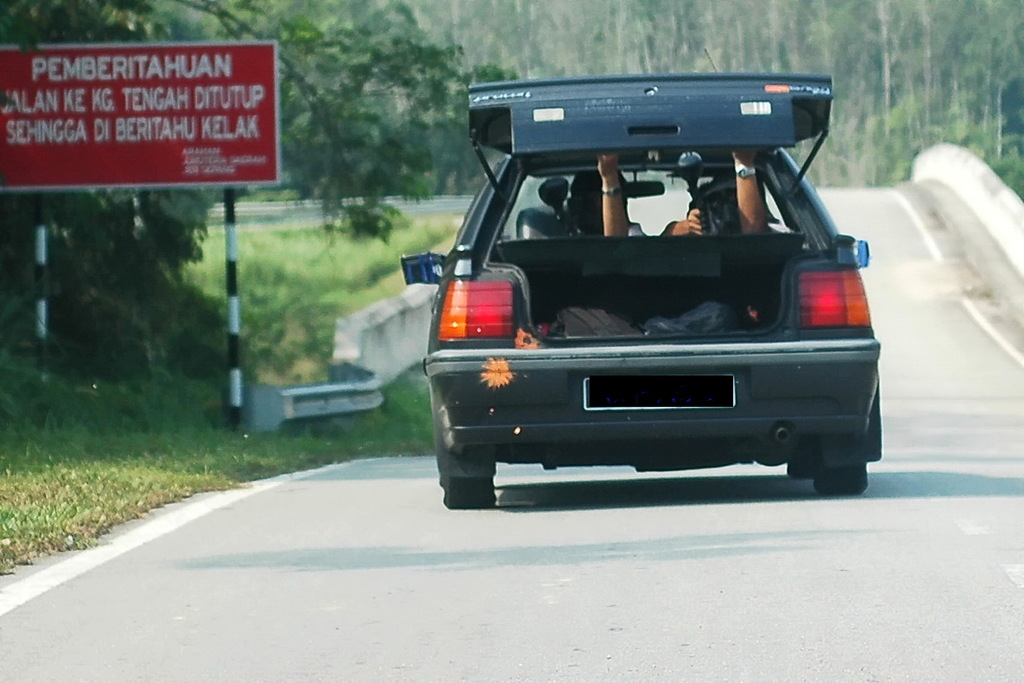Car: (400, 72, 885, 506)
